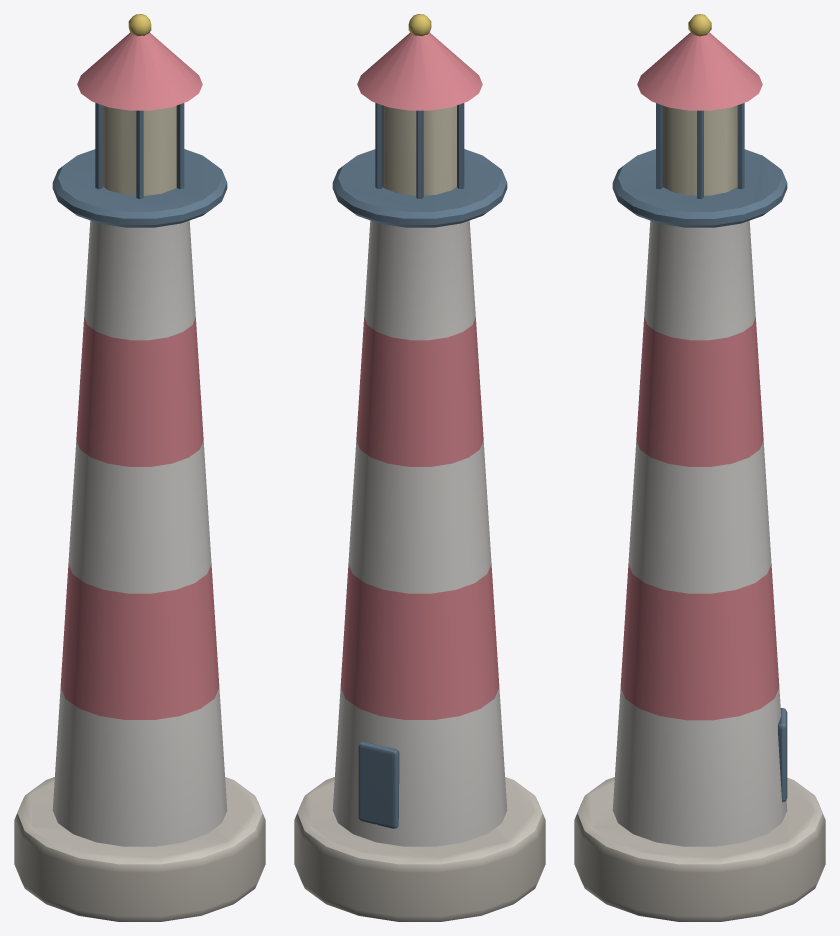
The model's file is lighthouse.glb.
3 renders of one model, left to right at view 1: azimuth 30°, elevation 25°; view 2: azimuth 150°, elevation 25°; view 3: azimuth 270°, elevation 25°, orthographic.
Visible parts, largest first — view 1: lighthouse; view 2: lighthouse; view 3: lighthouse.
Boxes of the visible parts, box(x1,y1,x2,y2) form: lighthouse: box(14, 14, 265, 921); lighthouse: box(294, 14, 545, 921); lighthouse: box(574, 14, 825, 921).
Bounding box in the file's own units: 1.42 × 5.43 × 1.44.
